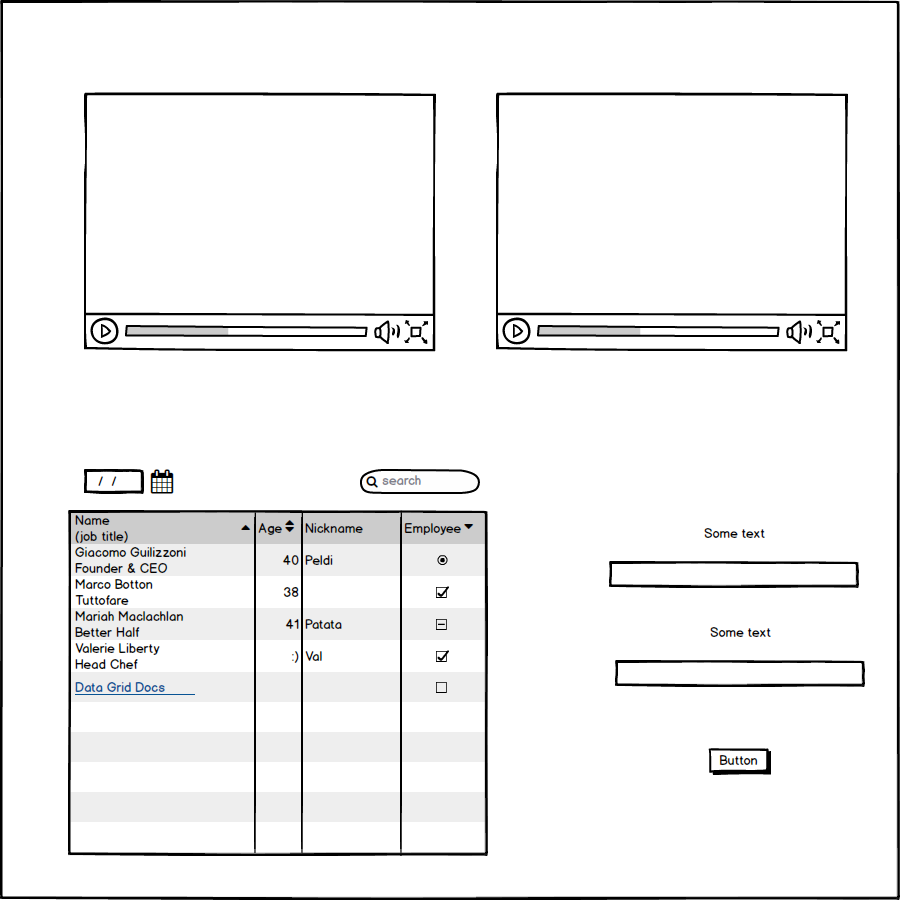button: (704, 743, 775, 777)
date_picker: (82, 466, 178, 499)
input: (609, 652, 875, 693), (605, 556, 863, 595)
label: (704, 517, 767, 551), (709, 621, 789, 643)
search: (357, 462, 489, 499)
table: (60, 504, 497, 859)
video: (81, 85, 442, 358), (492, 88, 857, 356)
